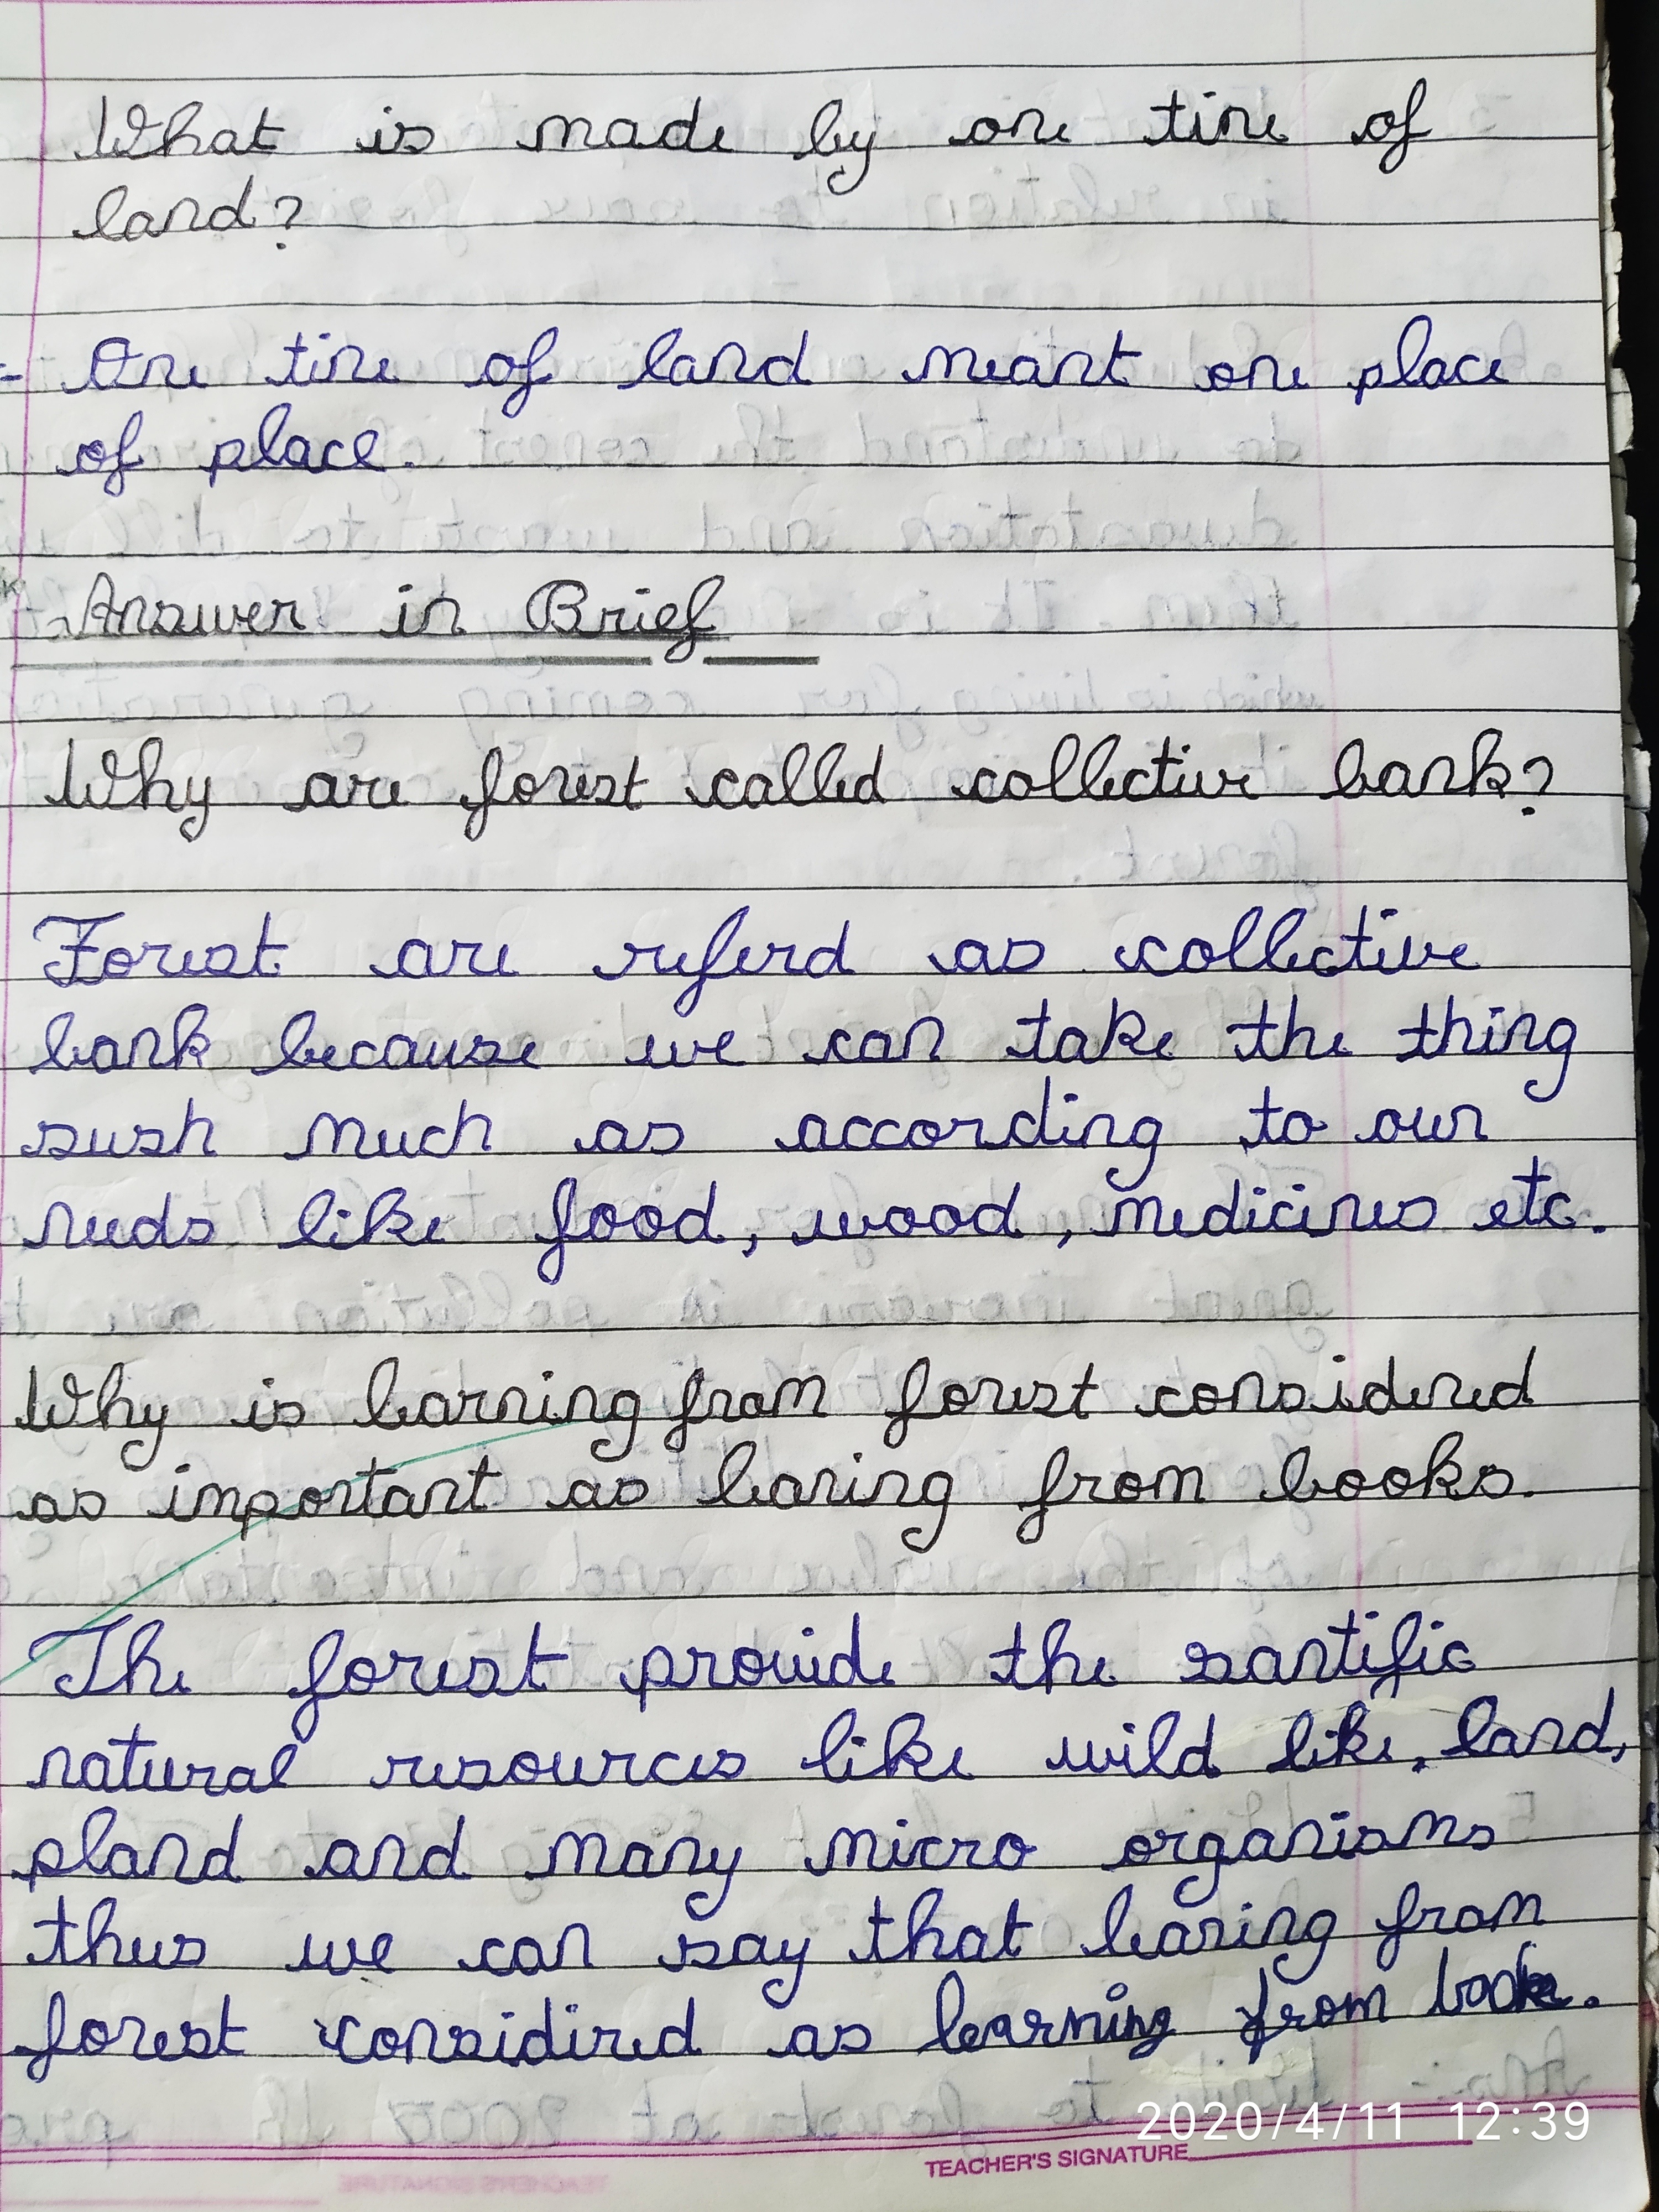A: (78, 571, 117, 636)
B: (525, 578, 589, 637)
F: (31, 911, 125, 988)
O: (82, 334, 136, 394)
T: (26, 1613, 134, 1698)
W: (58, 737, 125, 810), (23, 1362, 87, 1433), (89, 91, 150, 162)
a: (1239, 1644, 1291, 1688), (317, 1838, 364, 1883), (396, 937, 441, 981), (948, 937, 997, 975), (75, 1750, 117, 1794), (615, 1839, 659, 1881), (781, 2022, 828, 2060), (509, 1935, 551, 1977), (1373, 759, 1417, 799), (298, 772, 343, 810), (763, 1472, 809, 1510), (99, 1843, 143, 1881), (1152, 1919, 1195, 1958), (1051, 1024, 1091, 1064), (791, 1113, 833, 1151), (413, 1390, 455, 1428), (380, 1033, 423, 1069), (1236, 1827, 1279, 1864), (85, 1033, 122, 1075), (601, 117, 645, 152), (589, 1118, 633, 1153), (728, 1932, 772, 1966), (117, 209, 162, 242), (953, 1923, 990, 1963), (1004, 354, 1046, 388), (376, 1484, 420, 1517), (282, 434, 317, 474), (856, 1029, 896, 1064), (206, 125, 244, 160), (221, 1764, 263, 1796), (741, 773, 775, 810), (1483, 1728, 1523, 1759), (1450, 1904, 1490, 1935), (563, 1479, 605, 1508), (983, 2013, 1018, 2048), (664, 354, 701, 387), (26, 1491, 63, 1524), (1419, 357, 1450, 390), (735, 1392, 770, 1421)
b: (803, 98, 849, 158), (1277, 1446, 1323, 1505), (277, 1008, 319, 1071), (1333, 737, 1373, 799), (42, 1010, 82, 1071)
c: (331, 2012, 369, 2066), (1134, 935, 1178, 977), (1434, 1639, 1480, 1676), (910, 1834, 950, 1872), (706, 768, 742, 810), (1539, 1191, 1577, 1230), (965, 765, 1002, 805), (645, 1750, 683, 1787), (1305, 946, 1345, 979), (476, 1935, 507, 1977), (823, 1028, 857, 1064), (838, 1115, 875, 1150), (1150, 1383, 1185, 1420), (1119, 768, 1154, 803), (1448, 354, 1485, 387), (415, 1125, 450, 1158), (317, 439, 350, 472), (1265, 1200, 1298, 1233), (870, 1118, 904, 1150), (345, 1040, 380, 1069)
d: (193, 1813, 246, 1888), (416, 1813, 472, 1881), (671, 1179, 727, 1245), (826, 1609, 871, 1689), (1567, 1686, 1617, 1756), (1173, 1712, 1223, 1782), (1486, 1345, 1539, 1411), (756, 329, 816, 387), (967, 1181, 1026, 1238), (650, 94, 706, 155), (1007, 1075, 1054, 1146), (204, 174, 261, 232), (802, 920, 859, 977), (652, 1996, 704, 2059), (516, 1996, 559, 2067), (129, 1191, 178, 1251), (1358, 1353, 1401, 1416), (1201, 1177, 1241, 1237), (852, 742, 887, 805)
e: (349, 428, 387, 472), (711, 1029, 748, 1068), (364, 1932, 397, 1973), (1445, 942, 1485, 970), (240, 599, 270, 634), (652, 601, 681, 634), (148, 2031, 176, 2062), (317, 1045, 340, 1071)
f: (673, 904, 753, 1019), (289, 1627, 347, 1745), (1377, 77, 1434, 176), (664, 575, 727, 665), (1014, 1446, 1070, 1545), (502, 326, 559, 420), (1370, 1611, 1424, 1705), (882, 1355, 932, 1451), (537, 1176, 579, 1287), (462, 744, 507, 843), (1377, 1881, 1420, 1973), (24, 1991, 68, 2083), (101, 409, 145, 498), (662, 1367, 706, 1454)
g: (1272, 1909, 1338, 1986), (1523, 1017, 1579, 1103), (899, 1470, 955, 1555), (1105, 1115, 1162, 1193), (1173, 1831, 1227, 1909), (589, 1388, 643, 1465), (1126, 2006, 1175, 2060)
h: (122, 1618, 171, 1700), (131, 735, 181, 813), (1035, 1616, 1087, 1689), (903, 1885, 950, 1963), (91, 1360, 139, 1432), (82, 1895, 125, 1970), (157, 99, 206, 158), (174, 1096, 220, 1158), (1279, 995, 1319, 1061), (1436, 995, 1478, 1055), (451, 1099, 493, 1151)
i: (1358, 1609, 1387, 1677), (160, 1463, 192, 1524), (1413, 1620, 1446, 1677), (1324, 1353, 1354, 1414), (1187, 89, 1218, 146), (838, 1451, 870, 1508), (559, 2003, 589, 2062), (244, 1376, 275, 1432), (1101, 1980, 1129, 2043), (1375, 907, 1399, 975), (800, 1625, 826, 1688), (840, 1735, 875, 1782), (1476, 1007, 1509, 1055), (490, 2010, 518, 2066), (1115, 1721, 1141, 1780), (884, 1817, 913, 1869), (390, 582, 416, 639), (1291, 1183, 1317, 1237), (368, 105, 396, 155), (1232, 1900, 1260, 1951), (535, 1369, 559, 1426), (1328, 1810, 1354, 1862), (1305, 1728, 1338, 1768), (307, 331, 331, 383), (1058, 1092, 1080, 1148), (1243, 1186, 1269, 1233), (326, 1209, 352, 1251), (631, 587, 653, 634), (1175, 744, 1194, 798)
k: (873, 1710, 938, 1784), (1419, 1430, 1466, 1503), (359, 1186, 415, 1247), (1466, 728, 1513, 799), (1331, 1698, 1377, 1770), (1098, 996, 1147, 1059), (171, 1001, 211, 1069)
l: (816, 1705, 857, 1784), (1452, 1693, 1499, 1759), (932, 1968, 967, 2055), (714, 1439, 758, 1507), (1394, 314, 1432, 390), (78, 1804, 118, 1878), (1080, 733, 1122, 803), (1265, 906, 1309, 972), (1225, 904, 1267, 972), (362, 1355, 401, 1428), (1143, 1709, 1182, 1782), (253, 402, 293, 472), (1044, 732, 1082, 803), (640, 327, 685, 387), (1100, 1883, 1134, 1956), (296, 1188, 336, 1249), (810, 742, 849, 803), (1281, 1705, 1316, 1771), (89, 185, 129, 242), (779, 740, 812, 806), (268, 1742, 300, 1791)
m: (540, 1824, 612, 1879), (303, 1111, 371, 1160), (821, 1825, 884, 1874), (1488, 1888, 1549, 1933), (1107, 1195, 1169, 1238), (530, 113, 599, 152), (769, 1374, 830, 1418), (917, 343, 981, 383), (1398, 1808, 1462, 1848), (1150, 1463, 1209, 1505), (190, 1480, 240, 1522), (1342, 1982, 1392, 2024)
n: (143, 1831, 192, 1886), (549, 1923, 599, 1970), (364, 1834, 411, 1883), (1286, 1637, 1333, 1684), (702, 340, 749, 385), (901, 1015, 946, 1062), (1223, 1369, 1270, 1414), (416, 596, 467, 637), (403, 2017, 444, 2066), (1281, 1818, 1326, 1862), (559, 1385, 606, 1426), (660, 1834, 704, 1878), (866, 1468, 913, 1508), (1497, 1012, 1541, 1054), (1256, 1905, 1300, 1947), (1417, 756, 1462, 796), (418, 1477, 465, 1515), (326, 343, 368, 385), (1523, 1716, 1565, 1757), (1061, 2005, 1103, 2047), (1007, 106, 1051, 146), (1422, 1371, 1466, 1411), (1049, 350, 1094, 388), (37, 1745, 75, 1791), (159, 197, 206, 233), (493, 1385, 533, 1426), (125, 1026, 164, 1069), (40, 1202, 75, 1249), (1243, 354, 1284, 392), (1326, 1191, 1364, 1233), (138, 354, 179, 390), (1075, 1113, 1119, 1148), (115, 594, 150, 636), (807, 1467, 842, 1507), (702, 1388, 735, 1423), (1121, 2003, 1150, 2040)
o: (723, 1646, 769, 1689), (338, 1656, 385, 1698), (1175, 935, 1222, 974), (988, 1832, 1032, 1872), (502, 1749, 544, 1789), (73, 2019, 113, 2059), (1358, 108, 1399, 145), (584, 1202, 620, 1244), (962, 113, 1006, 148), (1488, 1968, 1520, 2015), (71, 437, 110, 475), (927, 1202, 965, 1240), (98, 946, 138, 982), (1108, 1470, 1148, 1507), (364, 2026, 404, 2062), (932, 1383, 974, 1418), (1114, 1834, 1157, 1867), (1330, 1467, 1368, 1503), (477, 352, 518, 387), (1279, 1109, 1319, 1144), (629, 1204, 664, 1244), (903, 1118, 946, 1150), (1377, 1465, 1413, 1501), (882, 1204, 920, 1238), (1370, 1108, 1405, 1144), (1187, 1381, 1223, 1416), (507, 772, 542, 806), (291, 1486, 328, 1519), (1202, 361, 1241, 392), (1309, 1993, 1340, 2029), (1464, 1973, 1490, 2010)
p: (634, 1644, 678, 1714), (24, 1836, 64, 1895), (240, 1489, 281, 1543), (206, 437, 247, 488), (1354, 362, 1385, 406)
qqcoma: (741, 1233, 760, 1259), (1056, 1228, 1077, 1251), (1610, 1742, 1631, 1764), (1410, 1754, 1427, 1773)
qqfstop: (1582, 1994, 1601, 2012), (1589, 1223, 1608, 1237), (403, 460, 415, 470), (1525, 1489, 1535, 1496)
qqquestion: (1521, 754, 1554, 817), (272, 193, 305, 251)
r: (383, 1649, 429, 1696), (617, 939, 674, 975), (592, 1747, 641, 1789), (443, 937, 488, 979), (680, 1646, 720, 1691), (380, 1754, 429, 1791), (113, 2015, 150, 2062), (1211, 768, 1260, 801), (343, 772, 383, 810), (1150, 1827, 1190, 1865), (586, 2024, 626, 2062), (1019, 2008, 1058, 2048), (453, 1388, 491, 1426), (946, 1834, 985, 1872), (972, 1374, 1007, 1416), (946, 1116, 990, 1150), (1194, 1916, 1230, 1954), (138, 941, 174, 977), (179, 1763, 218, 1797), (265, 597, 305, 631), (1066, 1472, 1107, 1505), (760, 942, 798, 974), (1413, 1905, 1446, 1937), (1277, 2003, 1309, 2034), (594, 606, 629, 634)
s: (1183, 1639, 1232, 1686), (457, 1655, 507, 1698), (673, 1932, 725, 1972), (389, 117, 437, 157), (1391, 1193, 1439, 1233), (997, 935, 1047, 974), (35, 1120, 82, 1160), (444, 2024, 488, 2064), (450, 1754, 495, 1792), (1471, 1463, 1514, 1501), (828, 2020, 875, 2055), (148, 599, 188, 637), (174, 2020, 213, 2060), (167, 1932, 209, 1968), (641, 1120, 685, 1155), (200, 942, 240, 979), (68, 1484, 108, 1521), (708, 1747, 749, 1782), (606, 1475, 652, 1507), (1269, 1379, 1309, 1414), (267, 1397, 308, 1430), (462, 1035, 505, 1066), (1351, 1825, 1394, 1857), (129, 1123, 167, 1158), (1026, 1379, 1061, 1418), (587, 773, 620, 808), (1462, 1822, 1497, 1851), (181, 1216, 214, 1245)
t: (1338, 904, 1377, 972), (518, 1622, 551, 1695), (1331, 1608, 1363, 1679), (861, 1893, 892, 1965), (247, 911, 279, 979), (45, 1893, 75, 1965), (117, 1721, 145, 1792), (1066, 1360, 1100, 1420), (1518, 1155, 1544, 1228), (1026, 996, 1054, 1064), (1004, 1620, 1030, 1691), (1150, 735, 1178, 799), (1157, 89, 1190, 143), (1100, 327, 1129, 387), (464, 1453, 493, 1512), (620, 754, 650, 812), (1253, 1085, 1281, 1146), (999, 1897, 1026, 1958), (1251, 998, 1277, 1062), (357, 1456, 383, 1519), (246, 105, 277, 153), (214, 1993, 239, 2055), (1410, 1001, 1434, 1059)
u: (545, 1750, 587, 1789), (138, 1756, 179, 1794), (127, 1937, 167, 1970), (422, 1038, 464, 1069), (373, 1129, 413, 1158), (85, 1127, 120, 1158)
v: (1396, 934, 1436, 972), (767, 1648, 807, 1684)
w: (300, 1932, 362, 1979), (1058, 1733, 1115, 1775), (641, 1031, 702, 1068), (810, 1207, 873, 1240), (1408, 1104, 1462, 1143), (190, 603, 244, 634)
y: (685, 1844, 744, 1923), (760, 1935, 812, 2010), (118, 1402, 171, 1474), (826, 131, 878, 197), (178, 775, 214, 843), (279, 331, 310, 387)
